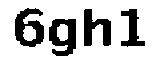1: (118, 5, 153, 53)
6: (13, 7, 46, 48)
g: (45, 15, 81, 60)
h: (81, 3, 117, 53)
